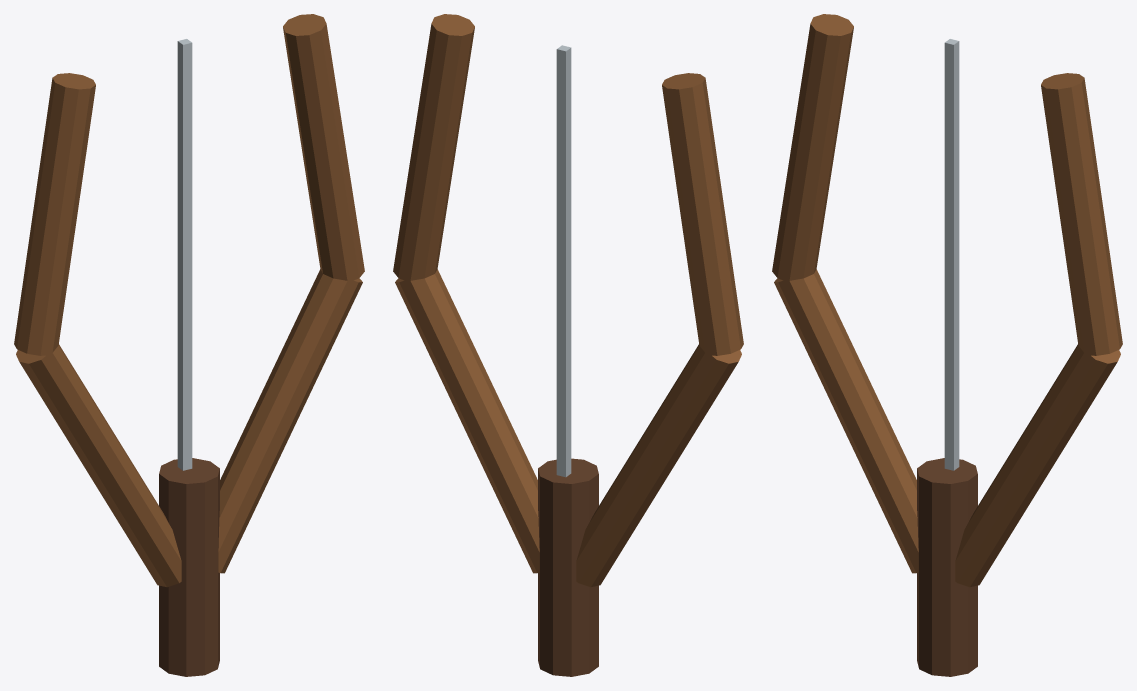
The model's file is short-bow.glb.
The picture shows the model from 3 angles, left to right: view 1: azimuth 30°, elevation 25°; view 2: azimuth 150°, elevation 25°; view 3: azimuth 330°, elevation 25°; orthographic projection.
Parts seen in each view (by area): view 1: bow_limb_1_0, bow_limb_-1_1, bow_limb_1_1, bow_grip, bow_limb_-1_0, bow_string; view 2: bow_limb_1_0, bow_limb_-1_1, bow_limb_1_1, bow_grip, bow_limb_-1_0, bow_string; view 3: bow_limb_-1_0, bow_limb_1_1, bow_limb_-1_1, bow_grip, bow_limb_1_0, bow_string.
Part boxes in pixels (<box>): bow_limb_1_0: <box>218,269,362,573</box>; bow_limb_-1_1: <box>14,73,95,355</box>; bow_limb_1_1: <box>283,14,364,282</box>; bow_grip: <box>159,458,219,676</box>; bow_limb_-1_0: <box>16,344,181,587</box>; bow_string: <box>177,39,192,470</box>; bow_limb_1_0: <box>395,269,539,573</box>; bow_limb_-1_1: <box>662,73,743,355</box>; bow_limb_1_1: <box>393,14,474,280</box>; bow_grip: <box>538,458,598,676</box>; bow_limb_-1_0: <box>576,344,741,587</box>; bow_string: <box>556,45,571,477</box>; bow_limb_-1_0: <box>774,269,918,573</box>; bow_limb_1_1: <box>1041,73,1122,355</box>; bow_limb_-1_1: <box>772,14,853,282</box>; bow_grip: <box>917,458,977,676</box>; bow_limb_1_0: <box>955,344,1120,587</box>; bow_string: <box>944,39,959,470</box>.
Bounding box in the file's own units: 0.4494 × 0.77 × 0.07.
